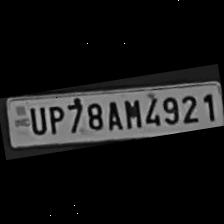1: (196, 88, 218, 122)
2: (176, 89, 200, 125)
4: (138, 92, 162, 128)
7: (62, 99, 86, 136)
8: (82, 98, 107, 134)
9: (156, 91, 180, 127)
A: (101, 97, 124, 132)
M: (119, 94, 144, 132)
P: (42, 100, 66, 136)
U: (23, 102, 48, 138)
